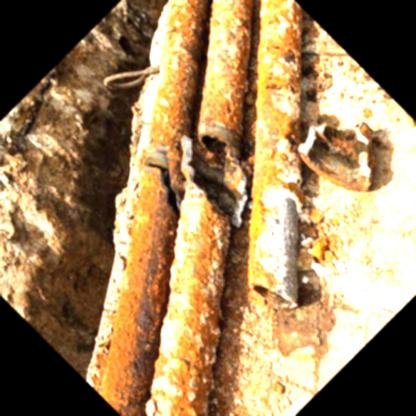burst: (170, 117, 244, 223)
